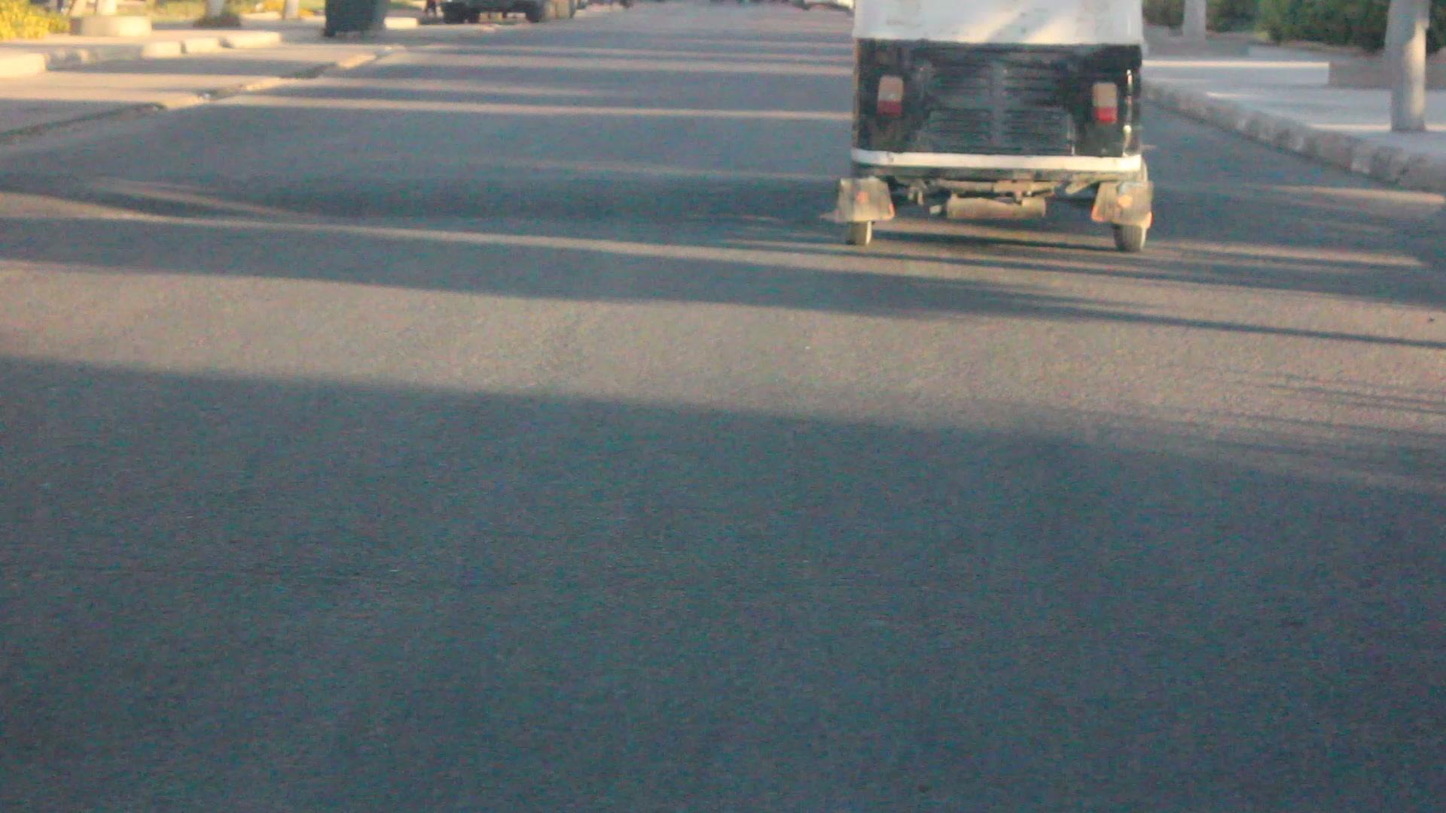Bump: (24, 175, 860, 239), (1162, 184, 1446, 252)
